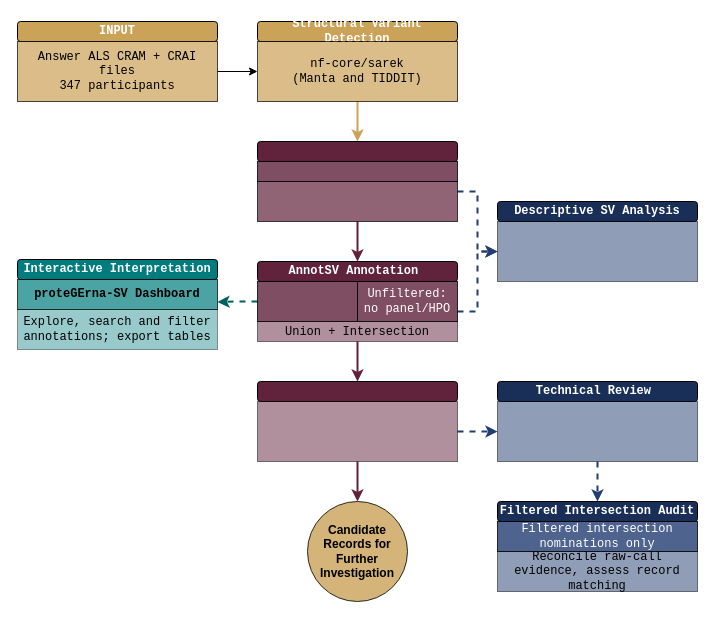
Some shapes in this 715 by 619 pixel diagram are drawn without their labels. The centre of each missing label's shape, as x and y in pixels:
ALSoD evidence OR maximum AnnotSV score ≥0.9: the point at 357,431
Descriptive record summaries and recorded carrier counts: the point at 597,251
Event-level prioritization: the point at 357,391
Filtered: panel + HPO: the point at 307,301
Filtering and Consolidation: the point at 357,151
Manta | TIDDIT Union | Intersection: the point at 357,201
OctopuSV: the point at 357,171
Using split reads, discordant pairs and depth from raw records: the point at 597,431
